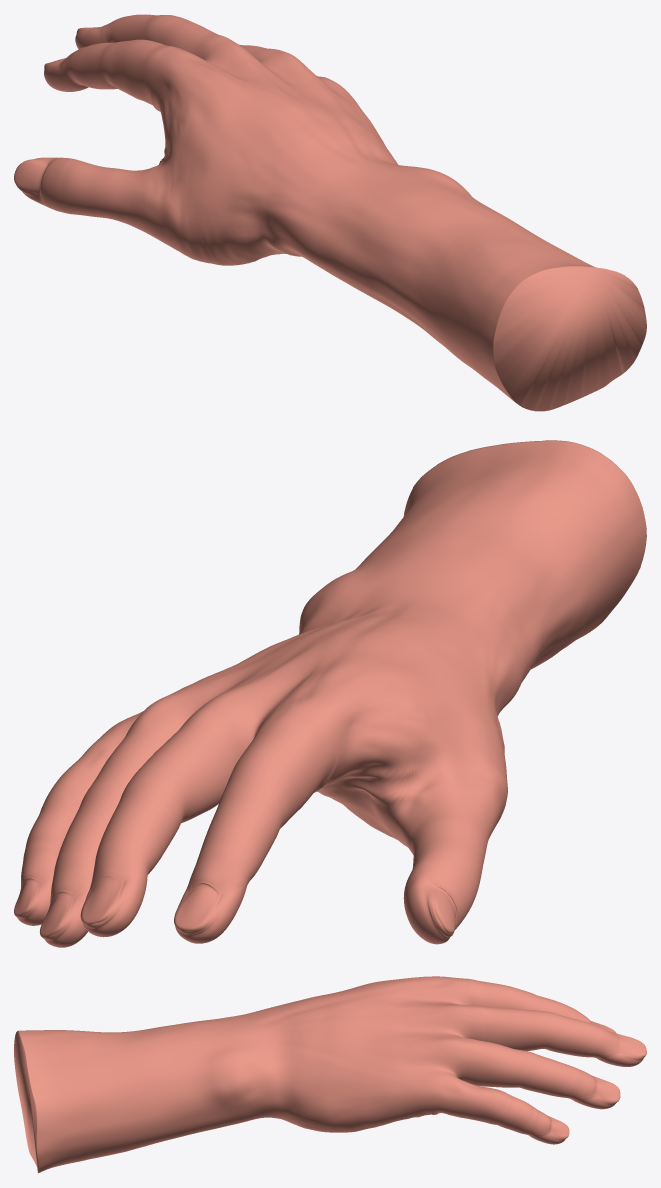
The model's file is Hand_CreativeMachine_CCAtribution_TestExport.fbx.
The picture shows the model from 3 angles, top to bottom: view 1: azimuth 30°, elevation 25°; view 2: azimuth 150°, elevation 25°; view 3: azimuth 270°, elevation 25°; orthographic projection. The views are drawn at different scales.
Parts seen in each view (by area): view 1: Hand.R; view 2: Hand.R; view 3: Hand.R.
Part boxes in pixels (x1,y1,x2,y2): Hand.R: (14, 14, 646, 411); Hand.R: (14, 440, 646, 947); Hand.R: (14, 976, 646, 1173).
Size of the model in its own units: 38.72 by 20.03 by 82.34.
